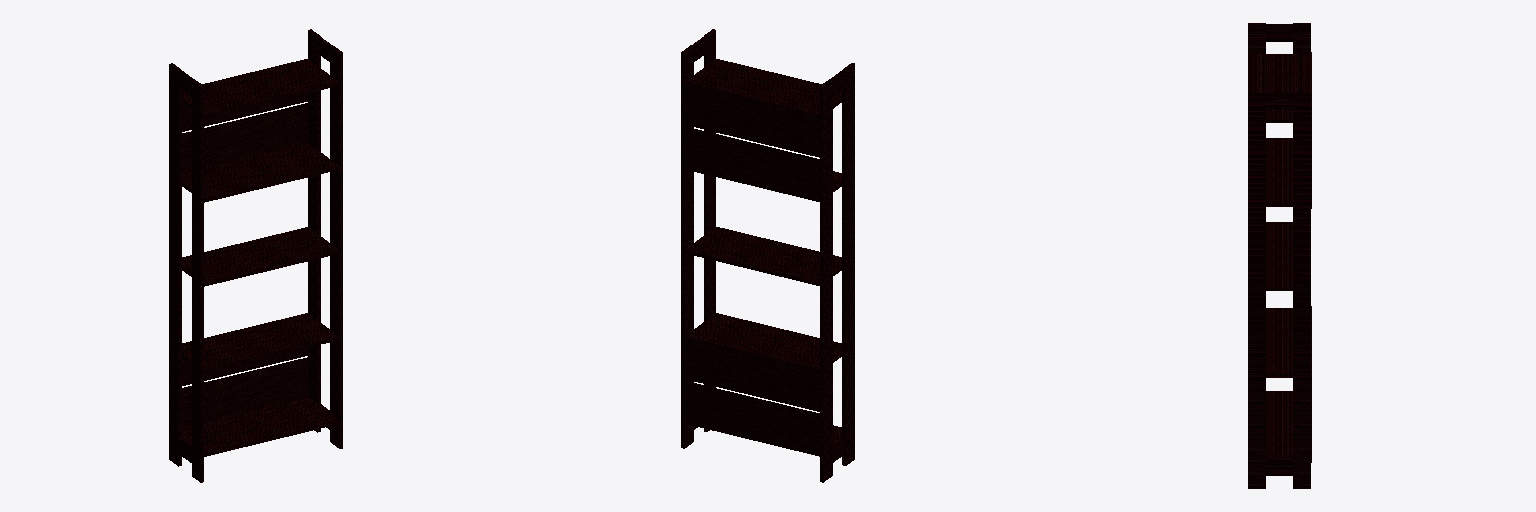
3 renders of one model, left to right at view 1: azimuth 30°, elevation 25°; view 2: azimuth 150°, elevation 25°; view 3: azimuth 270°, elevation 25°, orthographic.
Visible parts, largest first — view 1: Mesh8 Model, Mesh4 Backplate_1_1 Model, Mesh6 Backplate_1_3 Model, Mesh3 shelve1_3 Model, Mesh2 shelve1_2 Model, Mesh1 shelve1_1 Model, Mesh5 Backplate_1_2 Model, Mesh7 Backplate_1_4 Model; view 2: Mesh8 Model, Mesh5 Backplate_1_2 Model, Mesh4 Backplate_1_1 Model, Mesh6 Backplate_1_3 Model, Mesh7 Backplate_1_4 Model, Mesh2 shelve1_2 Model, Mesh1 shelve1_1 Model; view 3: Mesh8 Model, Mesh1 shelve1_1 Model, Mesh2 shelve1_2 Model, Mesh3 shelve1_3 Model.
Boxes of the visible parts, <box> form: Mesh8 Model: <box>169,29,342,482</box>; Mesh4 Backplate_1_1 Model: <box>182,103,307,172</box>; Mesh6 Backplate_1_3 Model: <box>182,357,307,427</box>; Mesh3 shelve1_3 Model: <box>182,143,339,202</box>; Mesh2 shelve1_2 Model: <box>182,227,339,286</box>; Mesh1 shelve1_1 Model: <box>182,313,339,372</box>; Mesh5 Backplate_1_2 Model: <box>182,313,307,385</box>; Mesh7 Backplate_1_4 Model: <box>182,59,307,131</box>; Mesh8 Model: <box>681,29,854,482</box>; Mesh5 Backplate_1_2 Model: <box>681,335,822,412</box>; Mesh4 Backplate_1_1 Model: <box>681,125,822,202</box>; Mesh6 Backplate_1_3 Model: <box>681,380,822,456</box>; Mesh7 Backplate_1_4 Model: <box>681,81,822,157</box>; Mesh2 shelve1_2 Model: <box>685,227,841,285</box>; Mesh1 shelve1_1 Model: <box>686,313,841,368</box>; Mesh8 Model: <box>1248,23,1310,488</box>; Mesh1 shelve1_1 Model: <box>1266,308,1292,377</box>; Mesh2 shelve1_2 Model: <box>1266,222,1292,290</box>; Mesh3 shelve1_3 Model: <box>1266,138,1292,206</box>.
Size of the model in its own units: 620 by 1650 by 243.
Materials: 1 (1 with a texture image).